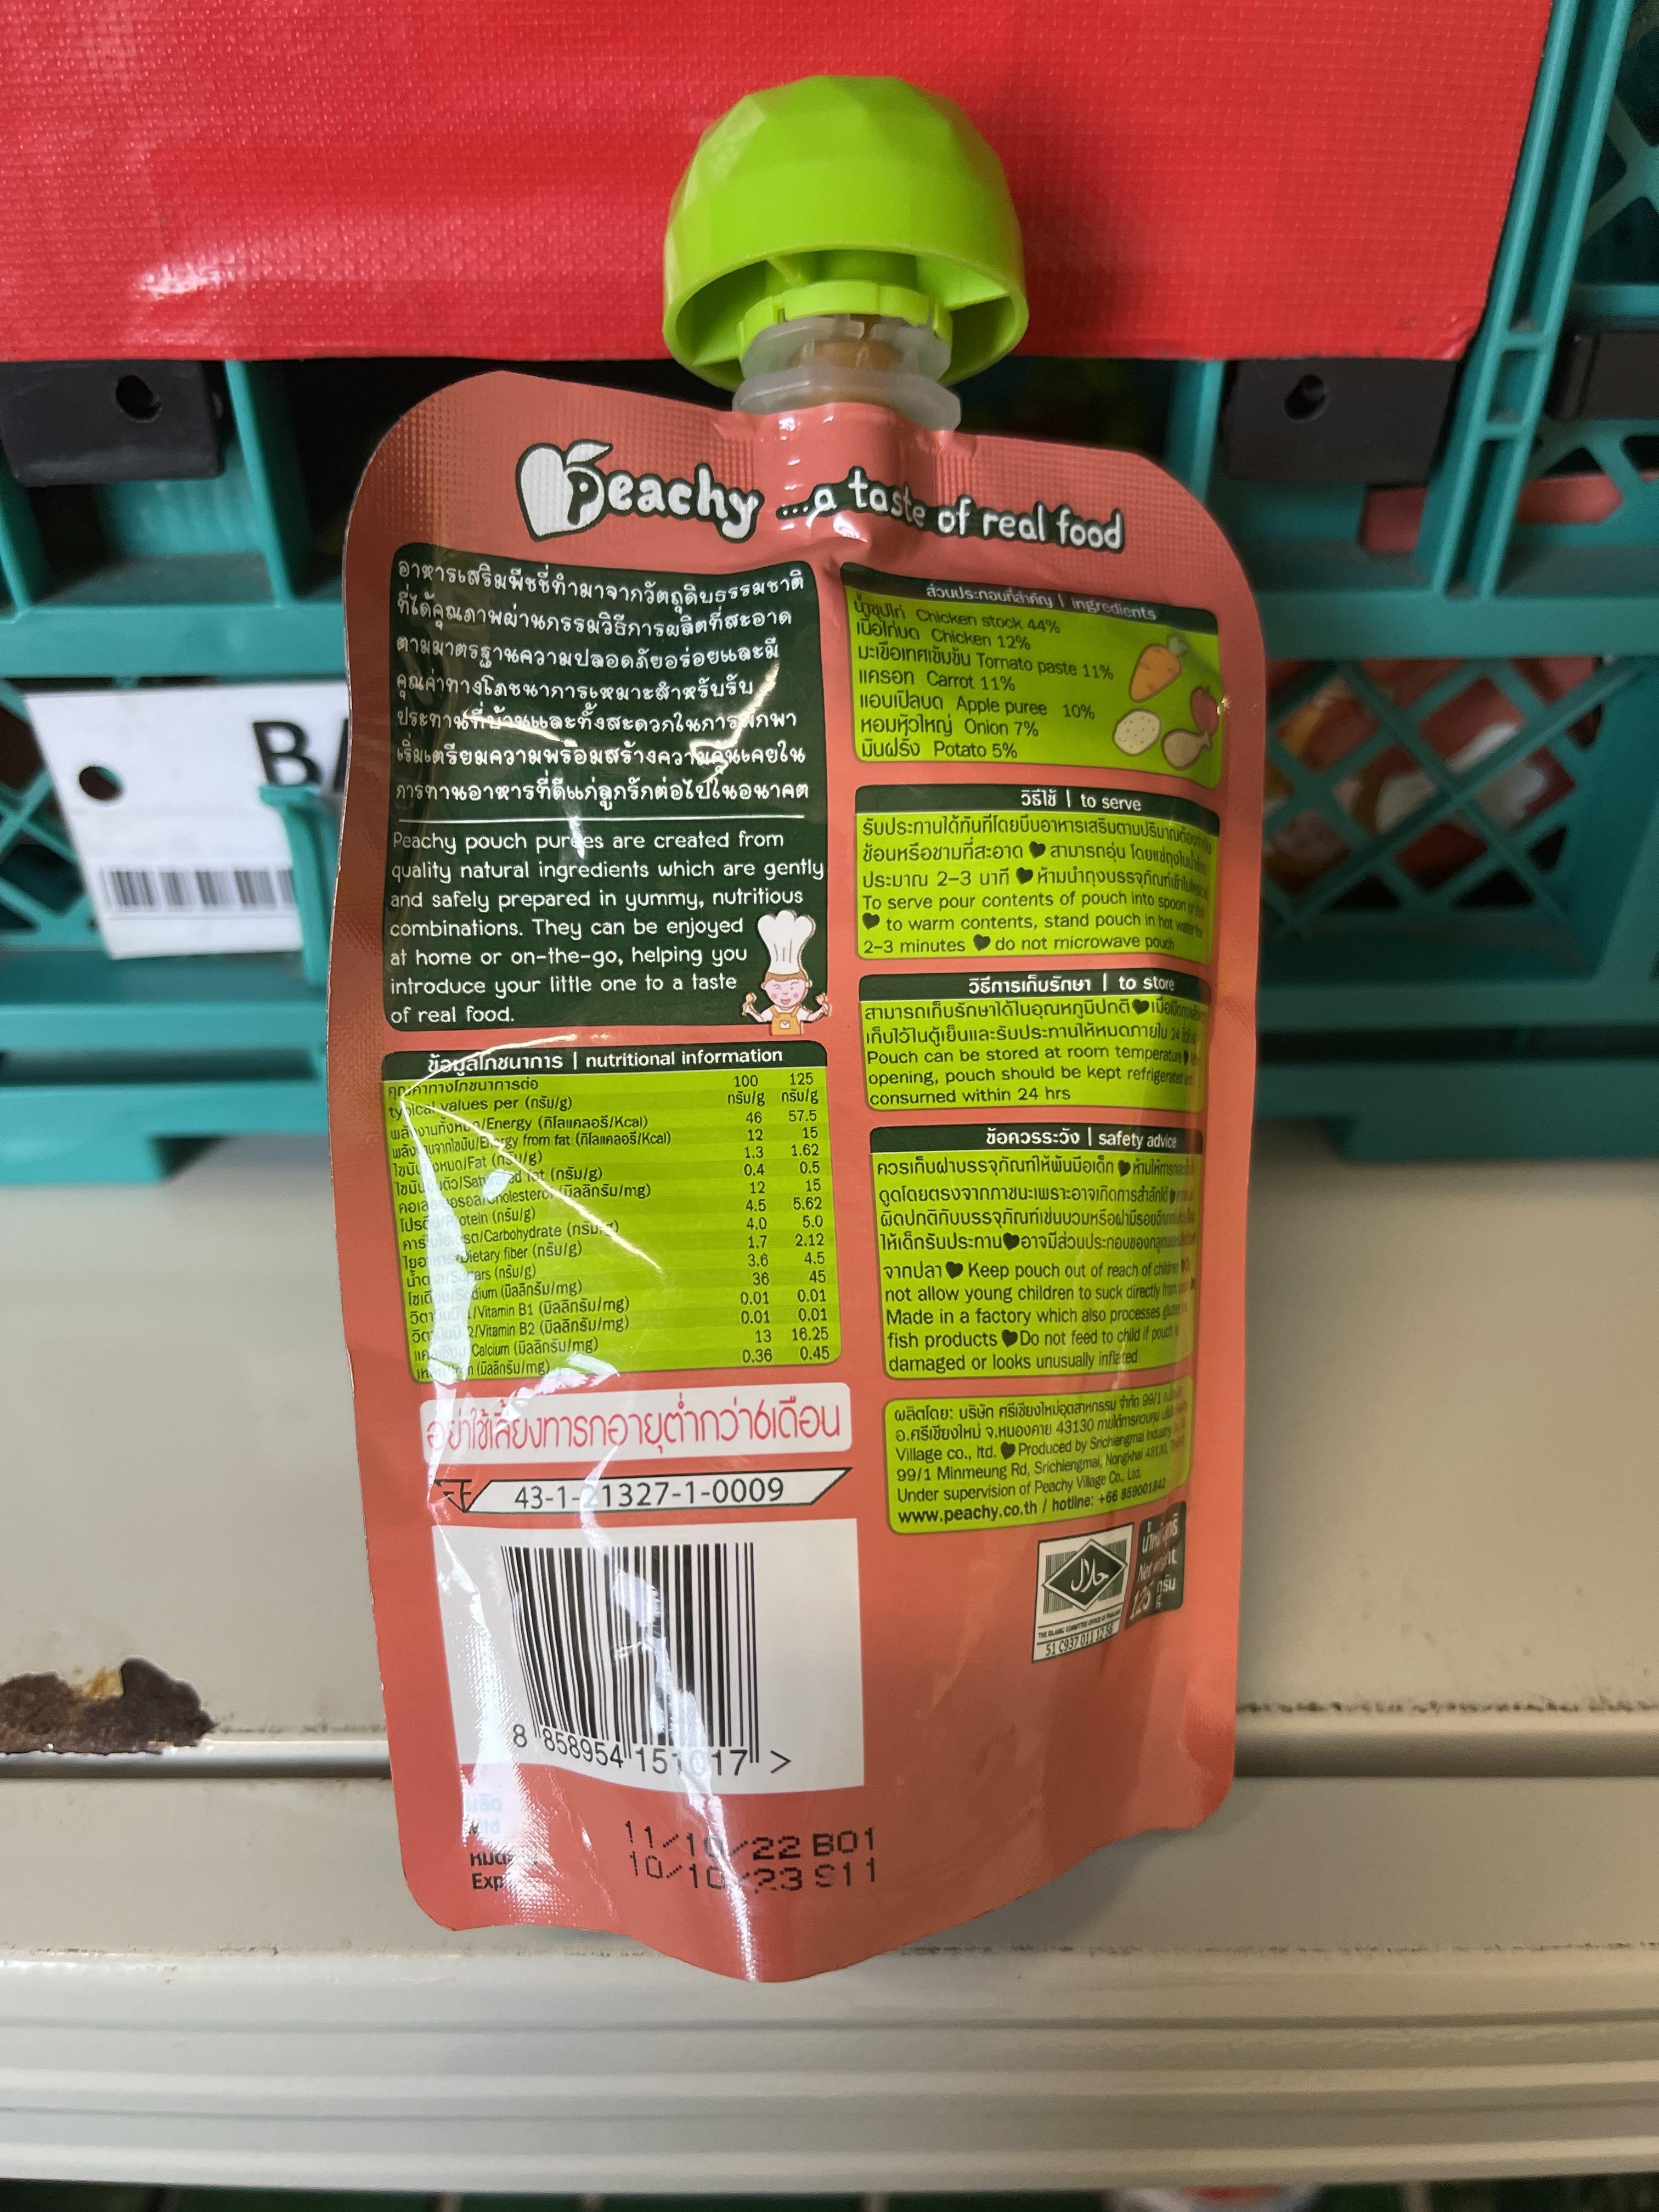object_name: (406, 444, 1204, 1831)
